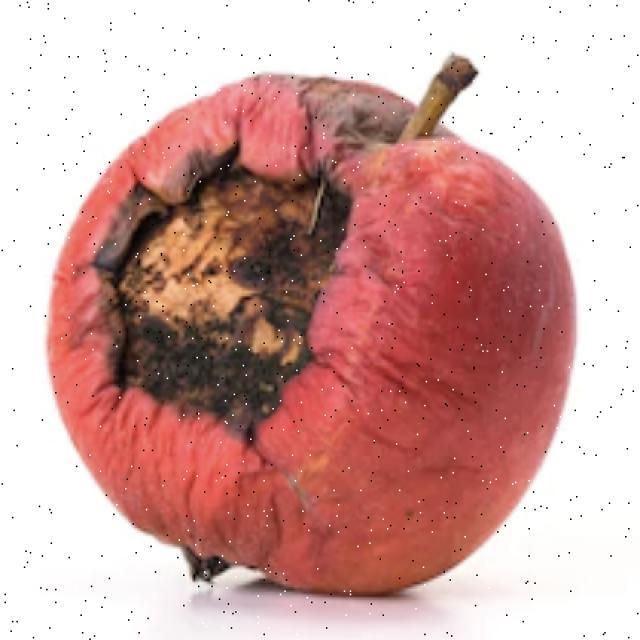Rotten: (63, 80, 527, 603)
